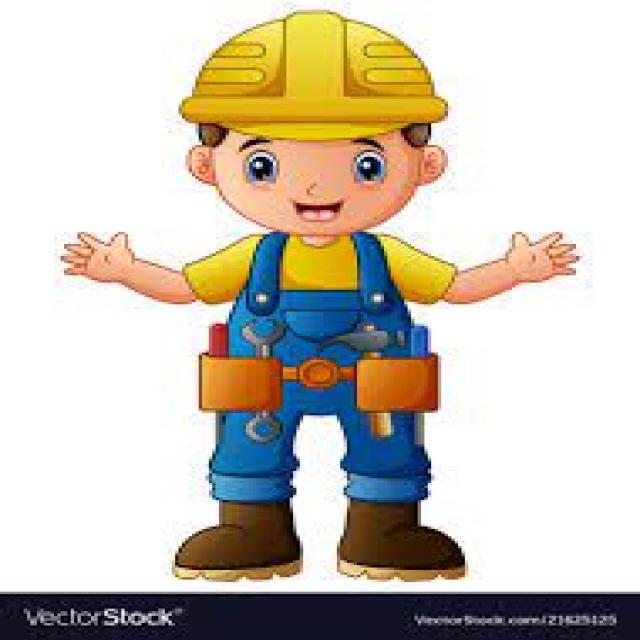Safety-Helmet: (176, 7, 452, 145)
